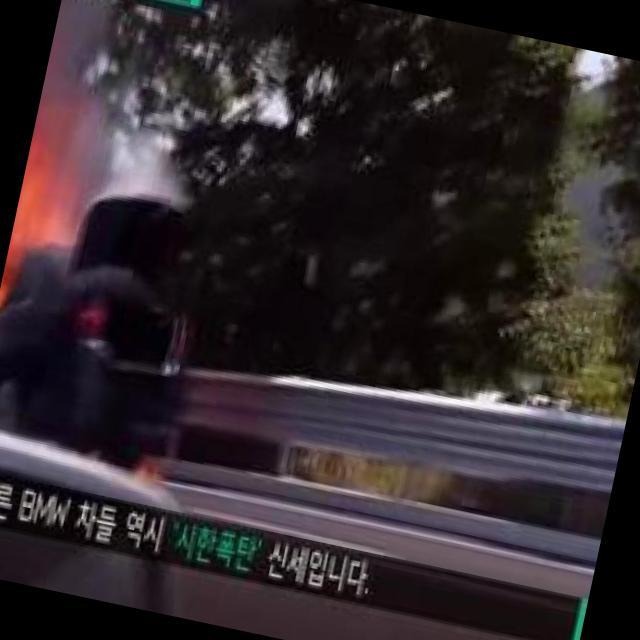Fire: (1, 126, 95, 331)
